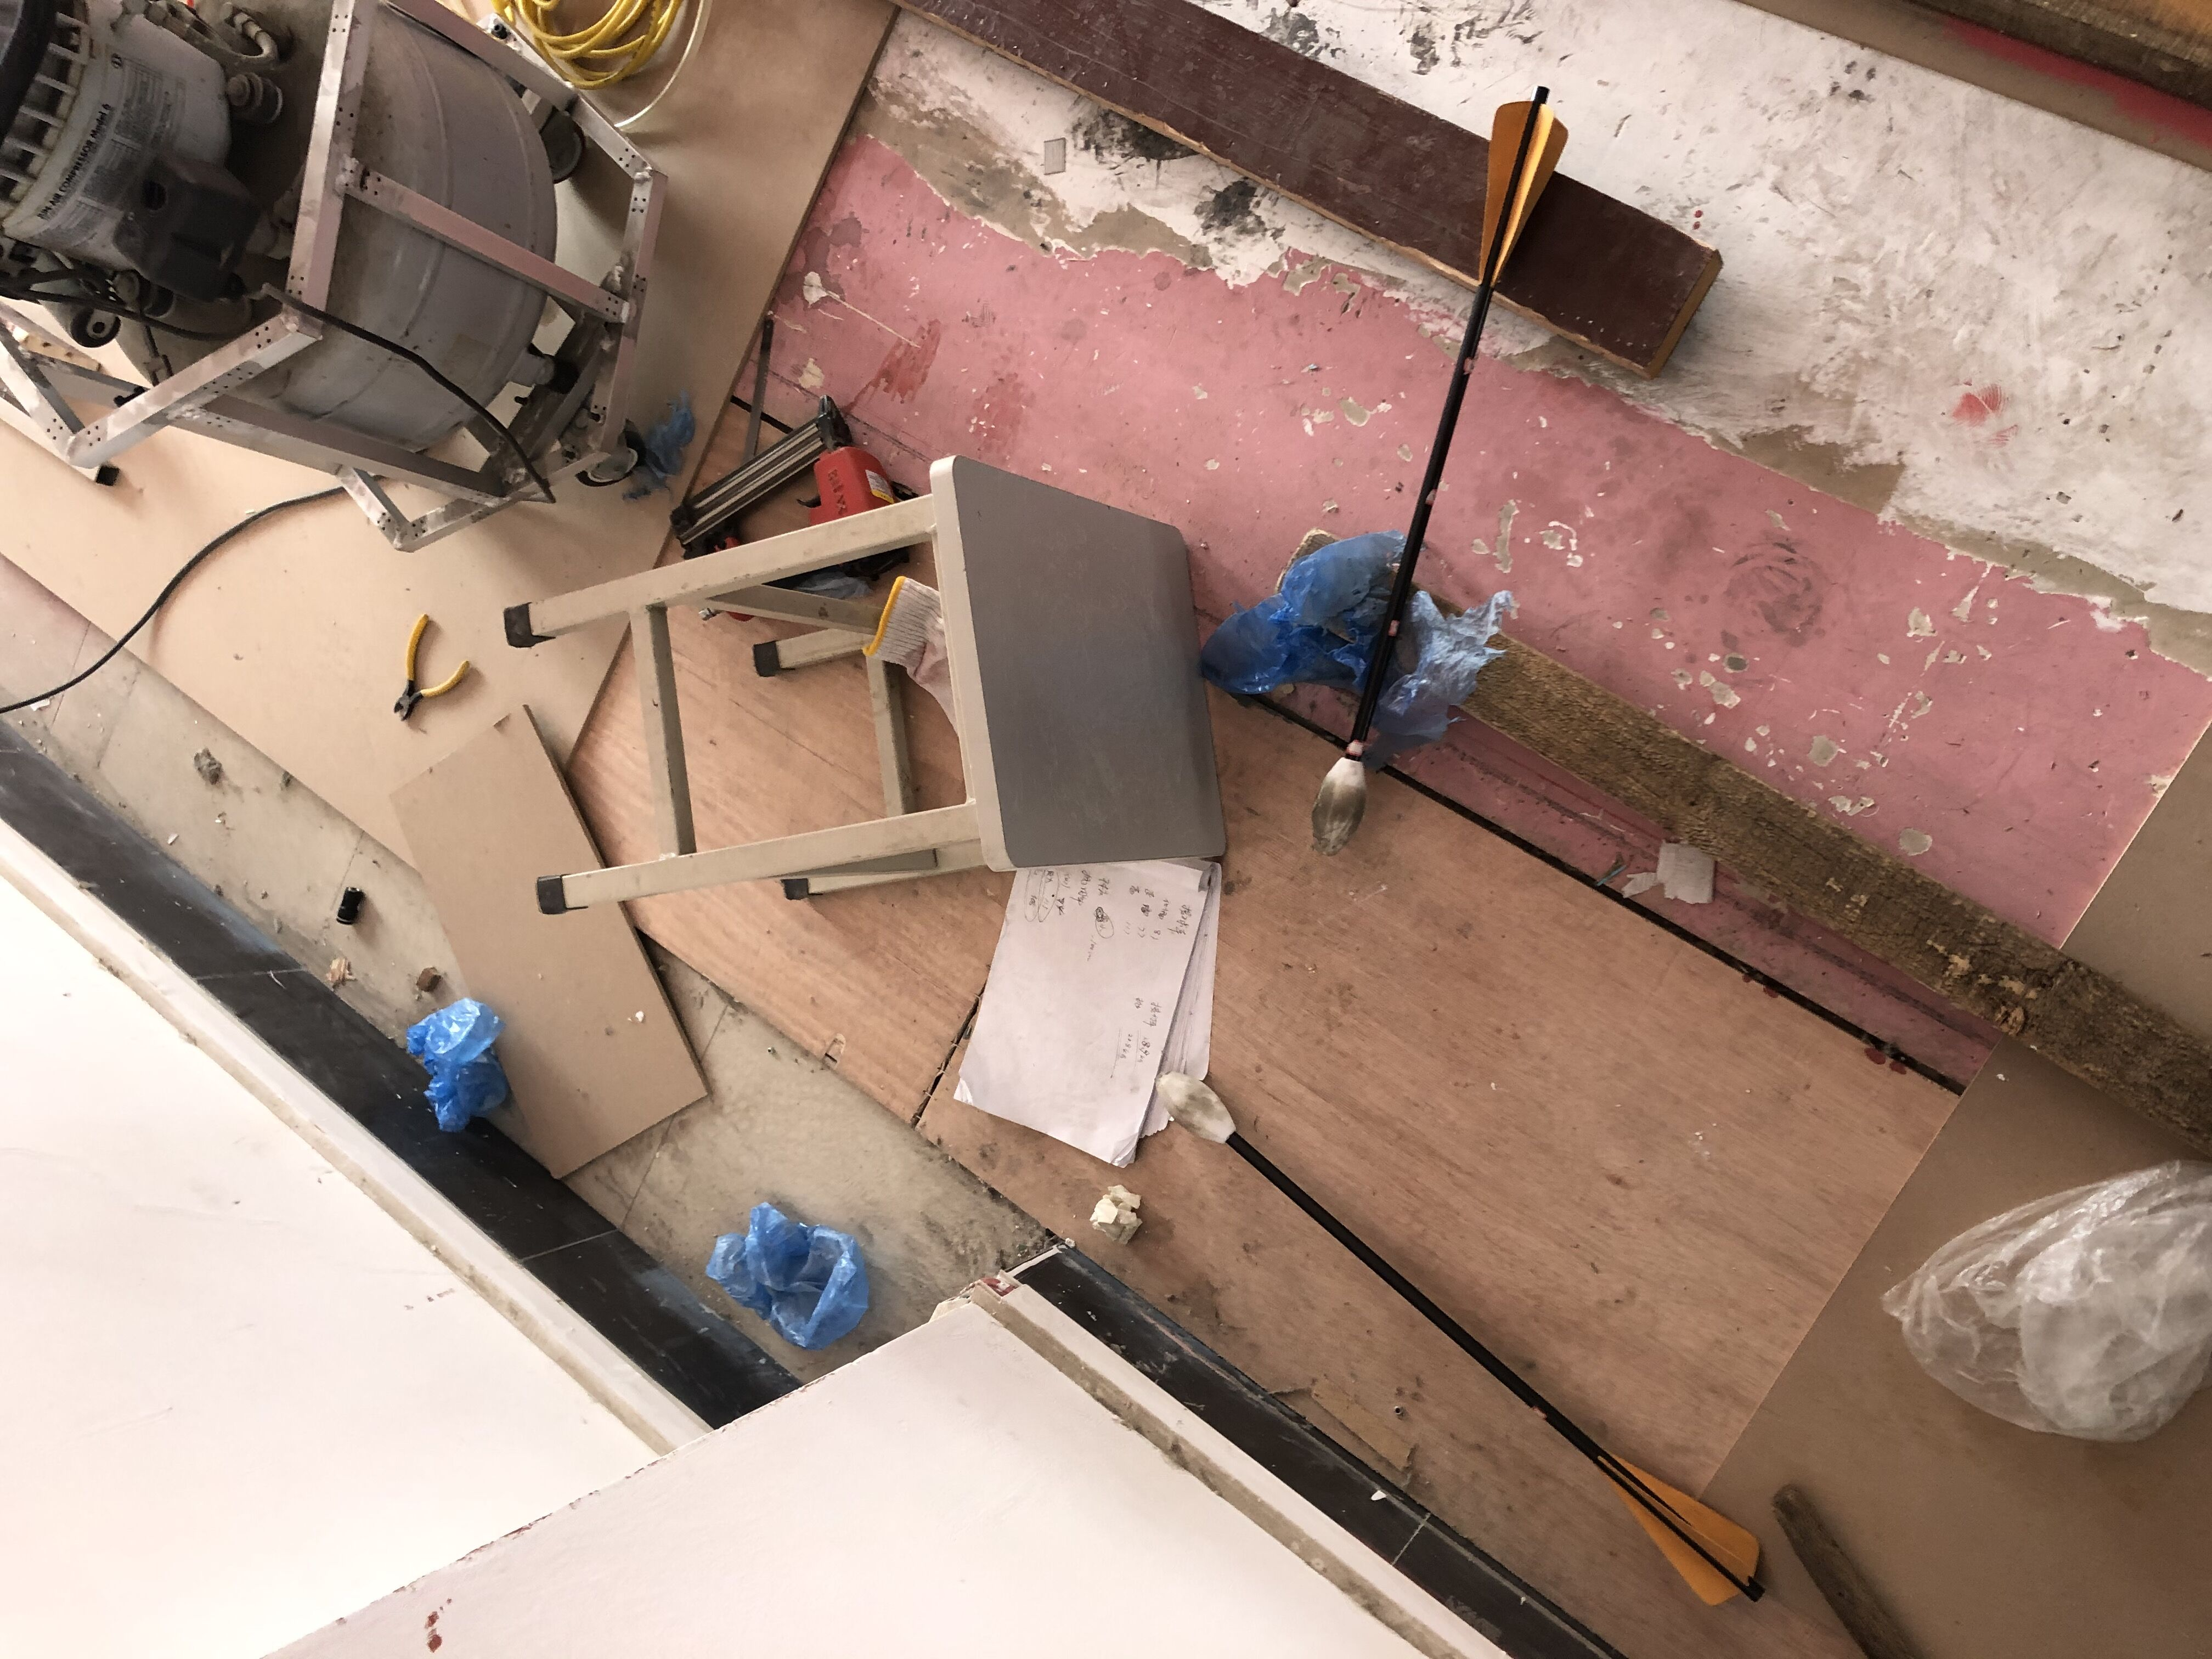arrow: (1153, 1070, 1763, 1603), (1310, 84, 1571, 856)
arrowFront: (1310, 751, 1372, 857), (1157, 1066, 1240, 1145)
